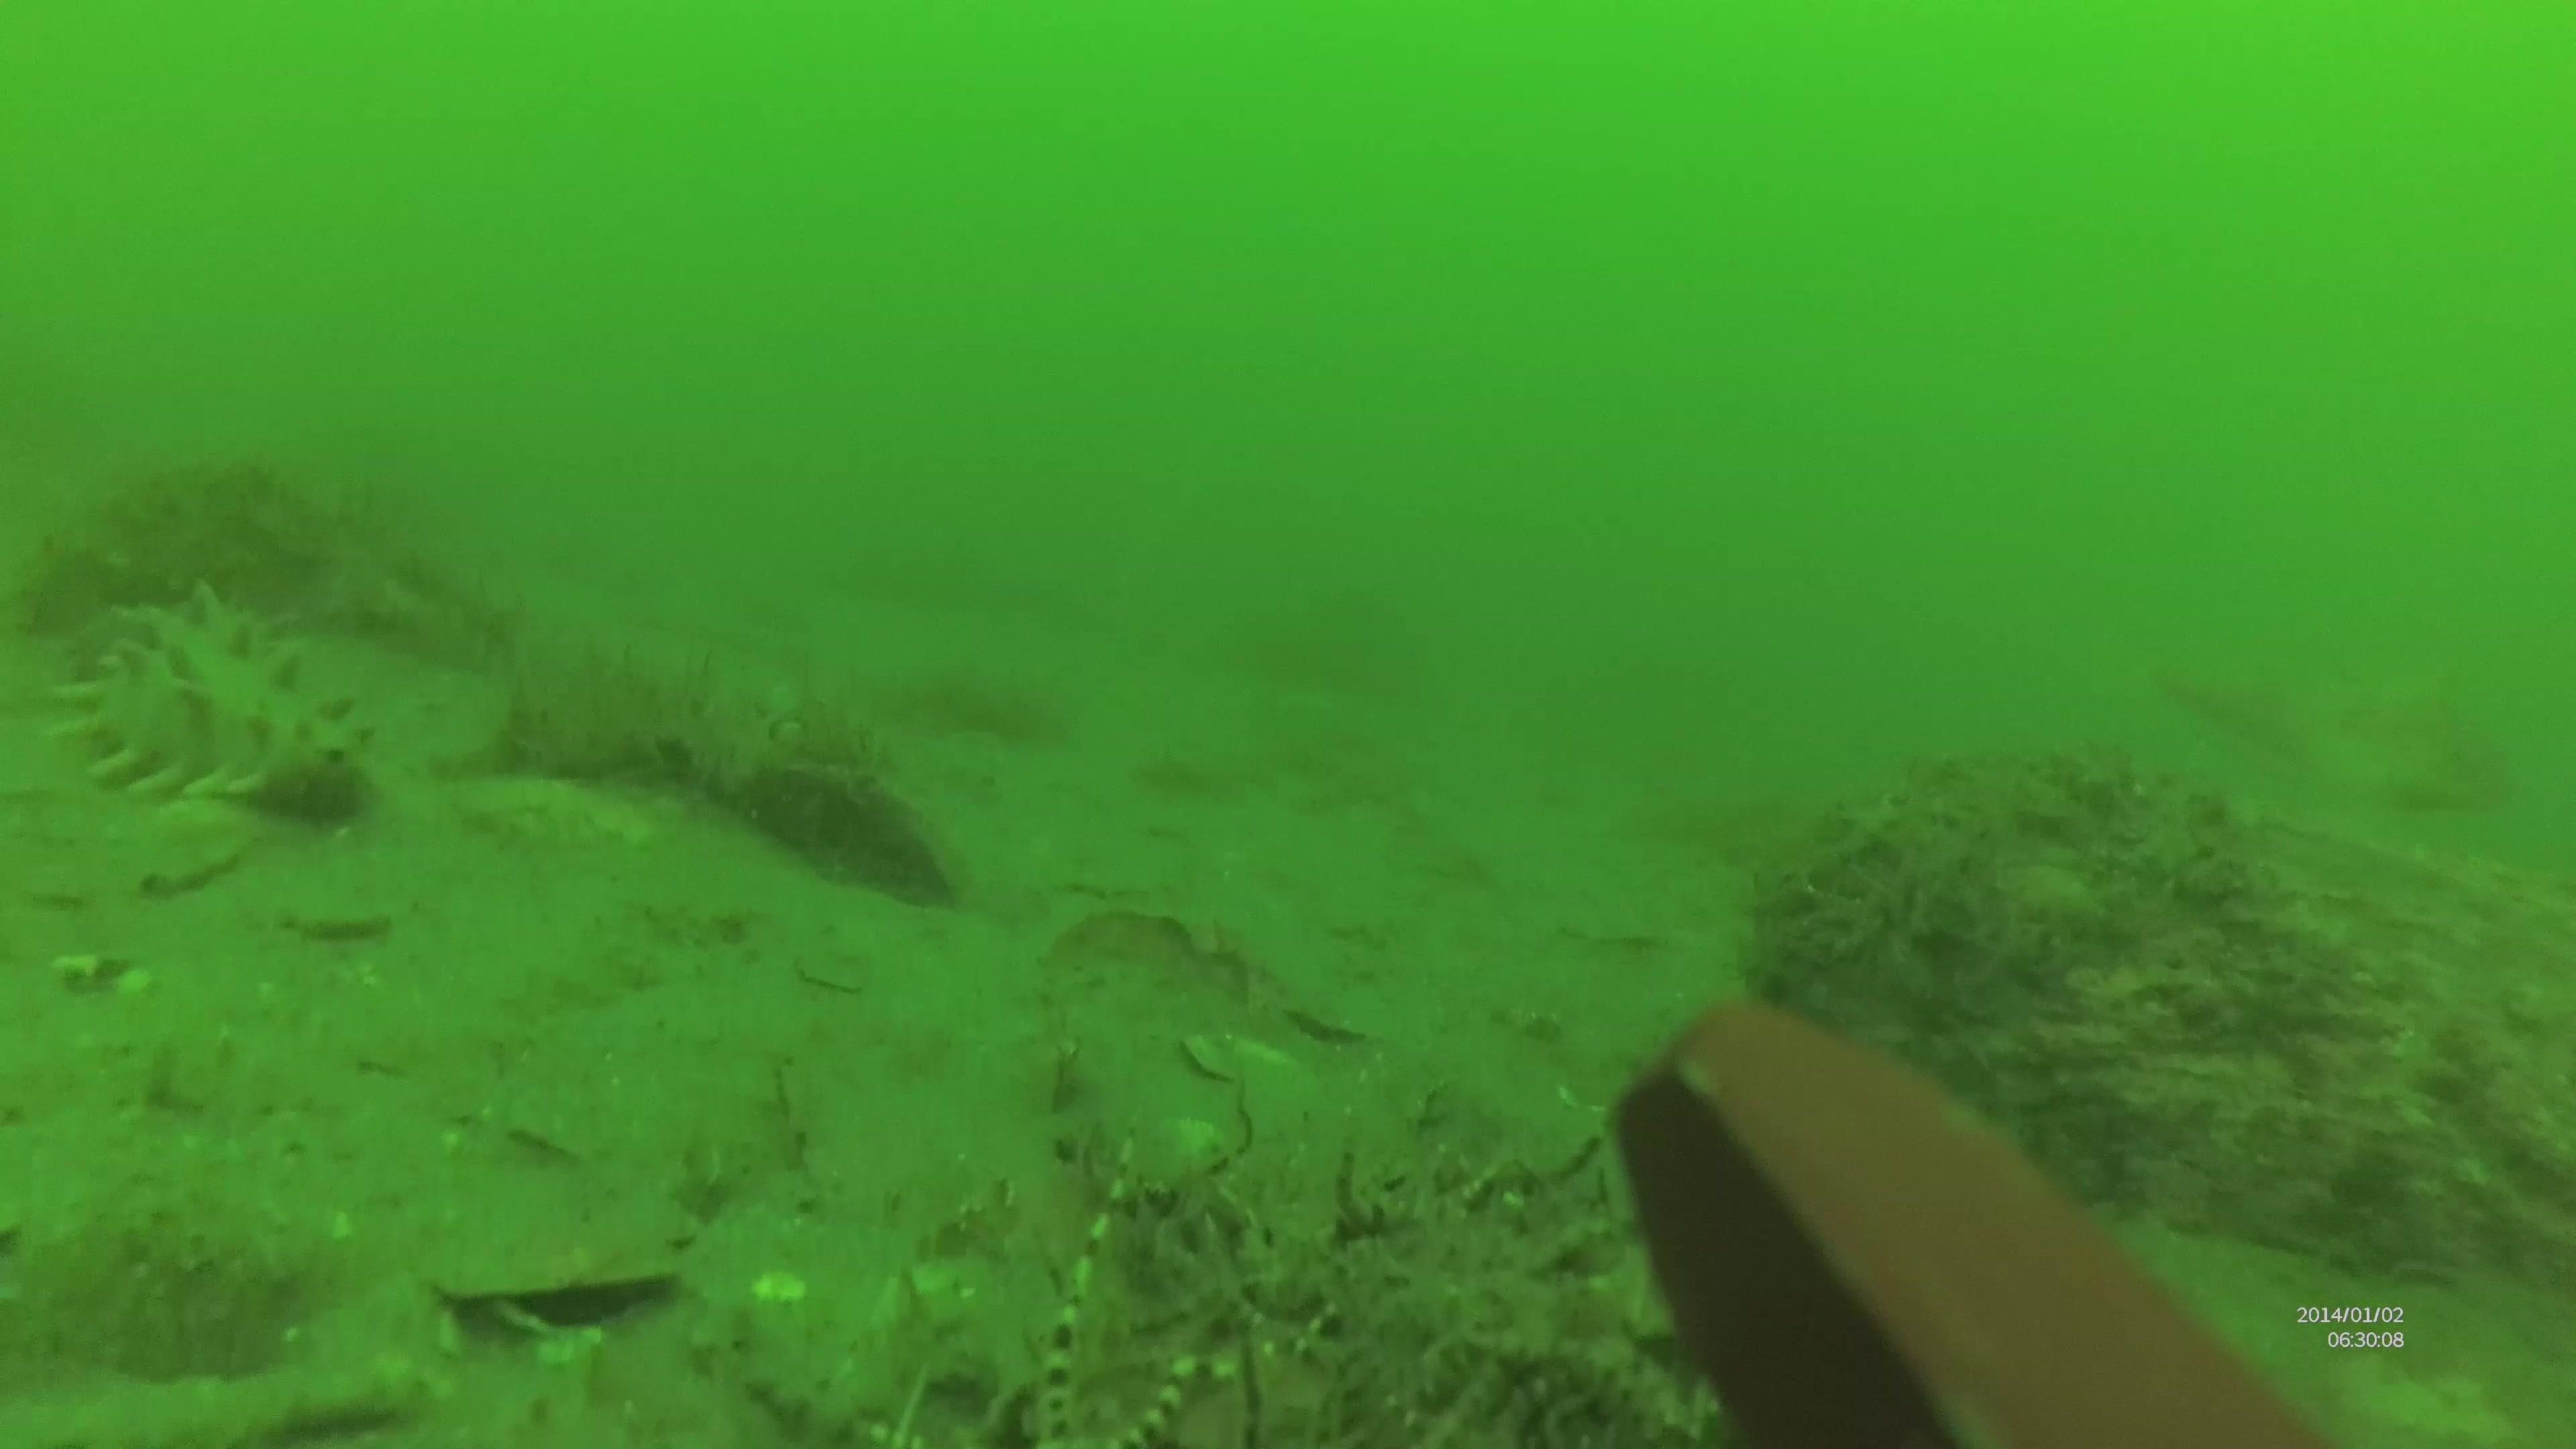holothurian: (60, 582, 377, 819)
